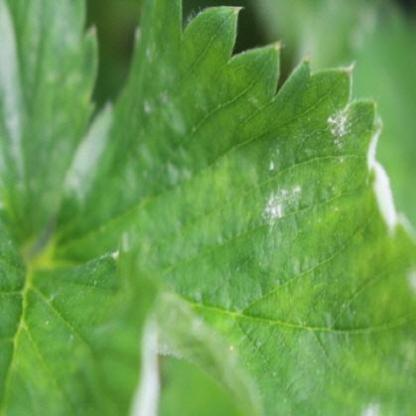Strawberry_Powdery_Mildew_Leaf: (36, 0, 416, 415)
